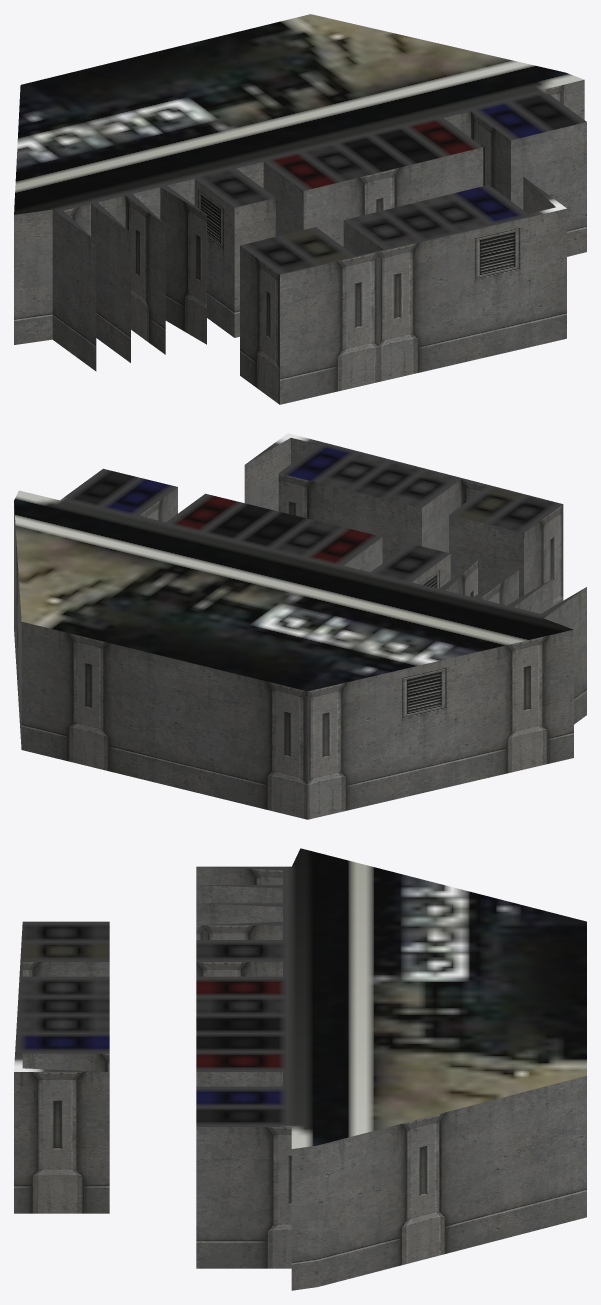
Rendered from BuildingSystem-03-Advance-04-ReinforcedLow-G-098-03.glb.
3 renders of one model, top to bottom at view 1: azimuth 30°, elevation 25°; view 2: azimuth 150°, elevation 25°; view 3: azimuth 270°, elevation 25°, orthographic. The views are drawn at different scales.
Visible parts, largest first — view 1: buildings/saxarba/SMV_Buildings/BuildingSystem-03-Advance-04; view 2: buildings/saxarba/SMV_Buildings/BuildingSystem-03-Advance-04; view 3: buildings/saxarba/SMV_Buildings/BuildingSystem-03-Advance-04.
Part boxes in pixels (x1,y1,x2,y2): buildings/saxarba/SMV_Buildings/BuildingSystem-03-Advance-04: (14, 14, 586, 404); buildings/saxarba/SMV_Buildings/BuildingSystem-03-Advance-04: (14, 433, 586, 819); buildings/saxarba/SMV_Buildings/BuildingSystem-03-Advance-04: (14, 848, 586, 1290).
Size of the model in its own units: 82 by 18 by 66.
